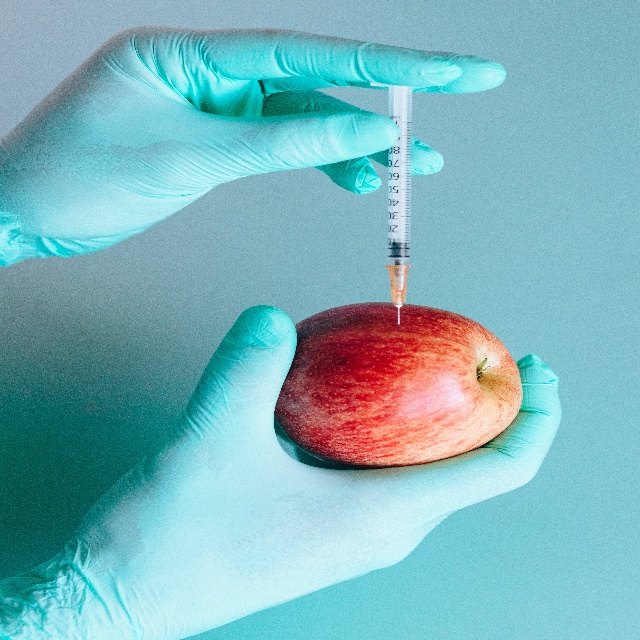Guantes: (0, 305, 562, 639), (0, 25, 507, 269)
